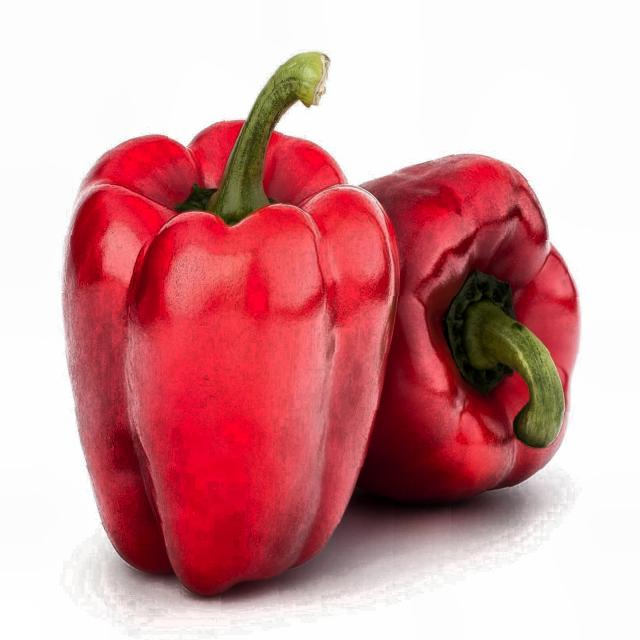red capsicum: (34, 27, 584, 620)
